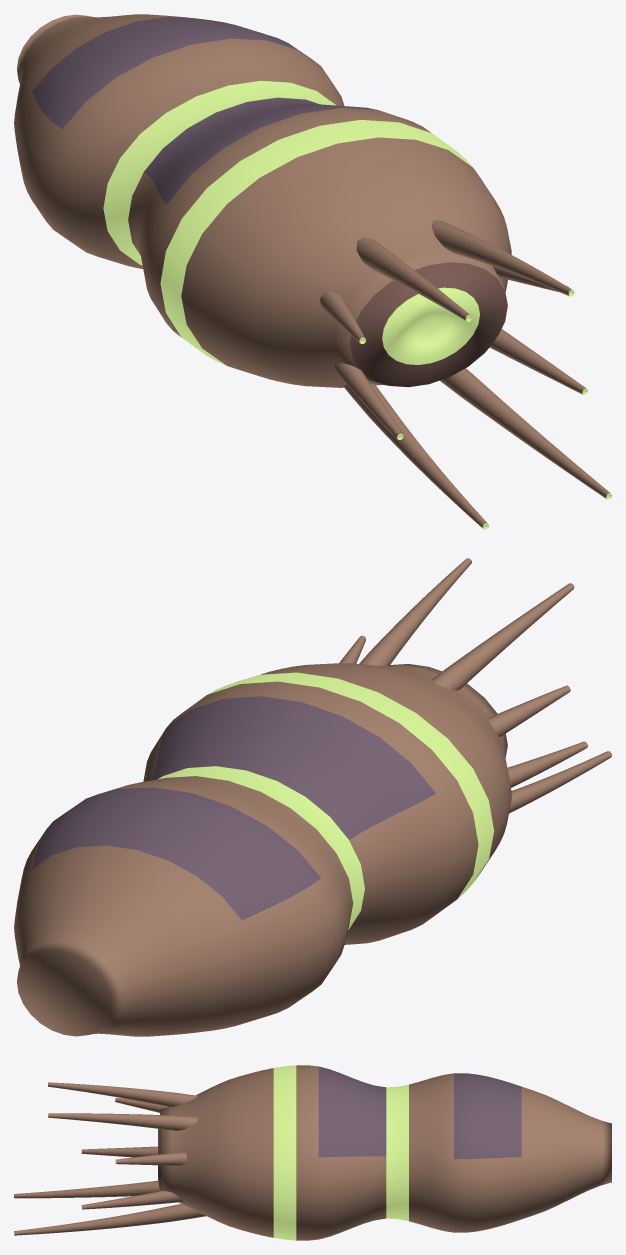
Rendered from vhorr_cv.glb.
The picture shows the model from 3 angles, top to bottom: view 1: azimuth 30°, elevation 25°; view 2: azimuth 150°, elevation 25°; view 3: azimuth 270°, elevation 25°; orthographic projection. The views are drawn at different scales.
Parts seen in each view (by area): view 1: hull_mesh, limb_3_port_mesh, limb_2_port_mesh, limb_3_mesh, limb_2_mesh, limb_1_port_mesh, limb_1_mesh, limb_0_mesh; view 2: hull_mesh, limb_2_mesh, limb_2_port_mesh, limb_3_mesh, limb_0_mesh, limb_1_mesh; view 3: hull_mesh, limb_3_port_mesh, limb_2_port_mesh, limb_2_mesh, limb_3_mesh, limb_1_port_mesh, limb_0_port_mesh, limb_1_mesh, limb_0_mesh.
Part boxes in pixels (box(x1,y1,x2,y2)): hull_mesh: box(14, 14, 511, 387); limb_3_port_mesh: box(440, 368, 611, 499); limb_2_port_mesh: box(431, 220, 574, 296); limb_3_mesh: box(342, 383, 488, 529); limb_2_mesh: box(356, 237, 471, 321); limb_1_port_mesh: box(489, 329, 587, 394); limb_1_mesh: box(332, 363, 403, 439); limb_0_mesh: box(320, 291, 365, 343); hull_mesh: box(14, 663, 511, 1036); limb_2_mesh: box(431, 583, 574, 690); limb_2_port_mesh: box(359, 558, 471, 666); limb_3_mesh: box(509, 751, 611, 813); limb_0_mesh: box(488, 685, 570, 736); limb_1_mesh: box(507, 741, 587, 787); hull_mesh: box(158, 1065, 611, 1240); limb_3_port_mesh: box(14, 1204, 206, 1235); limb_2_port_mesh: box(48, 1113, 197, 1130); limb_2_mesh: box(48, 1082, 197, 1107); limb_3_mesh: box(14, 1180, 159, 1198); limb_1_port_mesh: box(81, 1191, 183, 1209); limb_0_port_mesh: box(115, 1152, 186, 1165); limb_1_mesh: box(81, 1146, 157, 1157); limb_0_mesh: box(115, 1097, 167, 1112).
Bounding box in the file's own units: 111 × 79.34 × 292.
